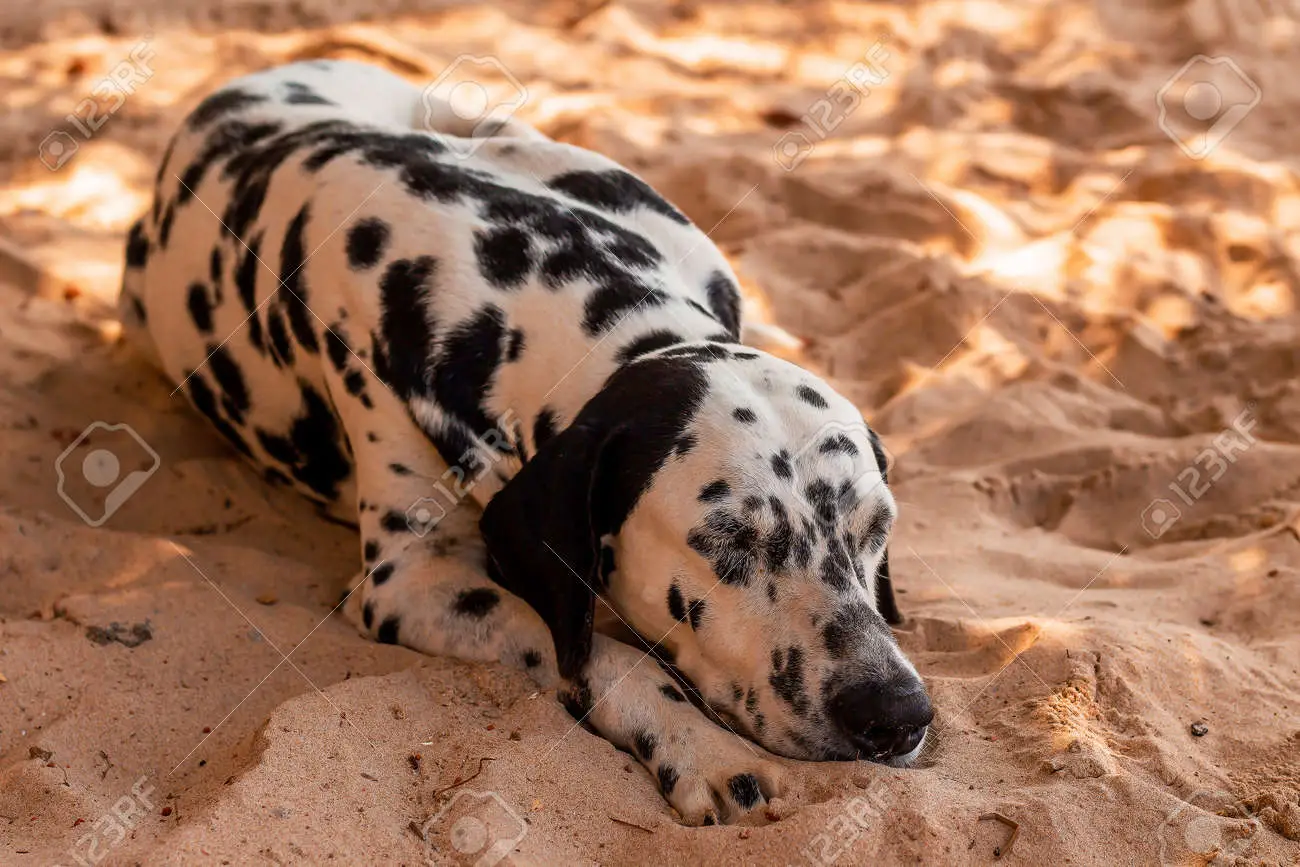Dog: (100, 31, 963, 833)
